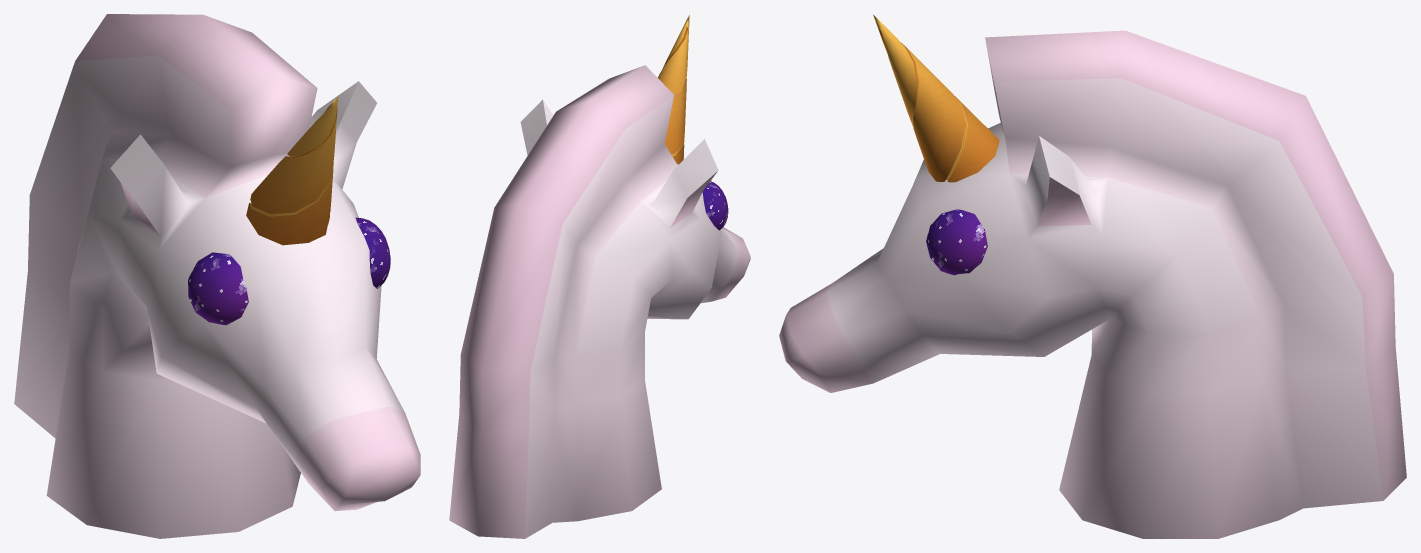
The model's file is UnicornSource_Adjusted.fbx.
3 renders of one model, left to right at view 1: azimuth 30°, elevation 25°; view 2: azimuth 150°, elevation 25°; view 3: azimuth 270°, elevation 25°, orthographic. The views are drawn at different scales.
Visible parts, largest first — view 1: UnicornSource_Adjusted; view 2: UnicornSource_Adjusted; view 3: UnicornSource_Adjusted.
Part boxes in pixels (x1=…): UnicornSource_Adjusted: x1=14, y1=14, x2=420, y2=538; UnicornSource_Adjusted: x1=449, y1=14, x2=750, y2=538; UnicornSource_Adjusted: x1=779, y1=14, x2=1406, y2=538.
Size of the model in its own units: 2.37 by 4.32 by 5.16.
